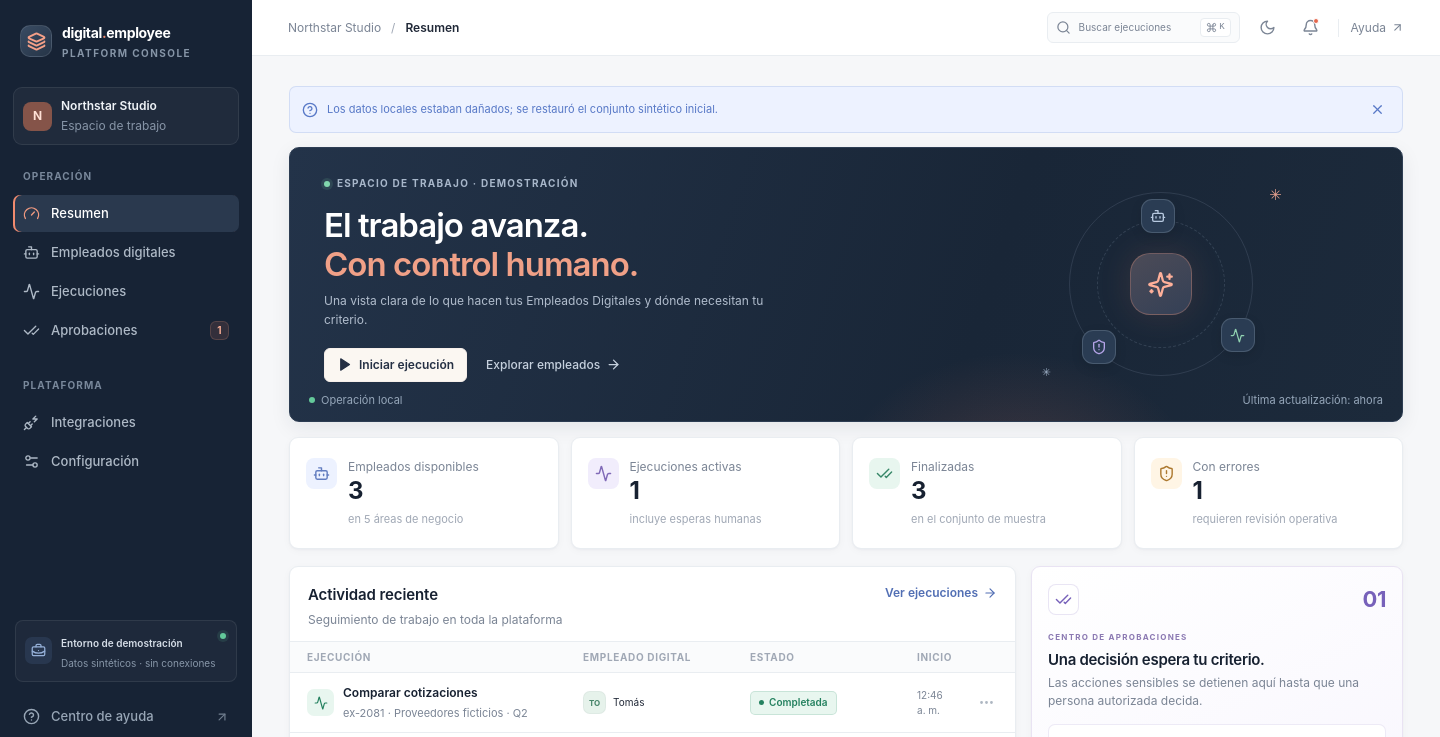
Test: Navegación de la consola › explica cuando los datos locales inválidos se restablecieron
expect the message shows "datos locales estaban dañados": met, box [327,102,718,116]
Click the button named "Cerrar aviso de recuperación".
click(1378, 110)  # box [1365,97,1390,122]
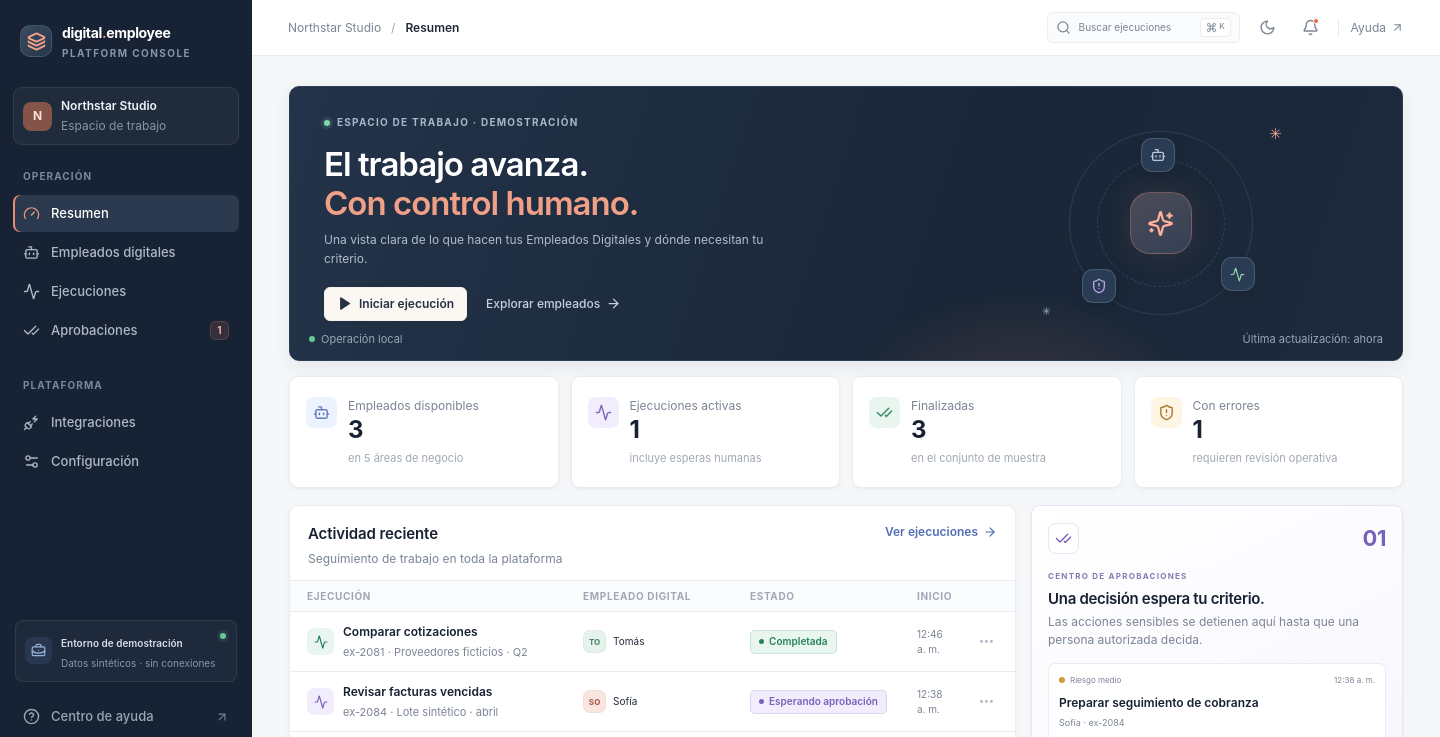
expect the message "Los datos locales estaban dañados; se restauró el conjunto sintético inicial." is gone: met
